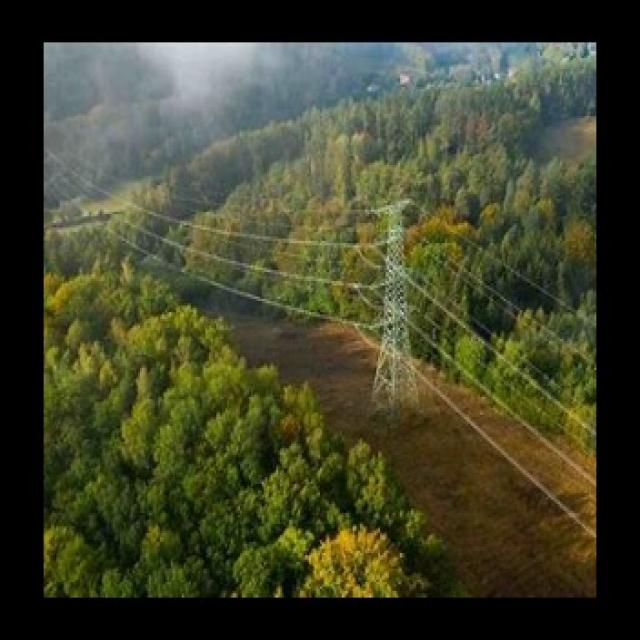utility poles: (340, 149, 439, 420)
